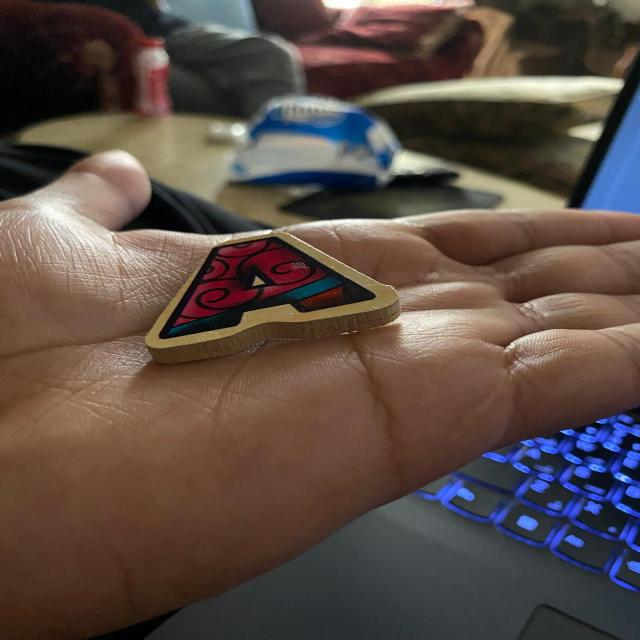A: (147, 232, 399, 364)
